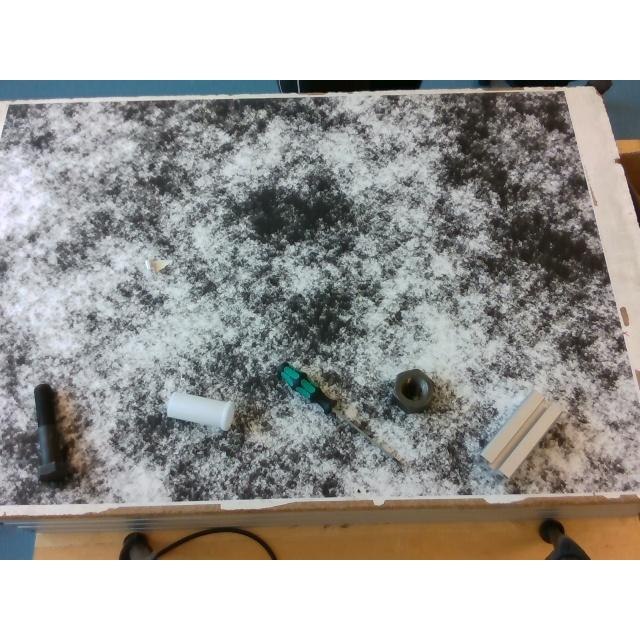M20_100: (34, 382, 66, 482)
M30: (394, 368, 434, 412)
S40_40_G: (480, 391, 562, 477)
Screwdriver: (277, 362, 401, 462)
Spacer: (167, 392, 233, 428)
